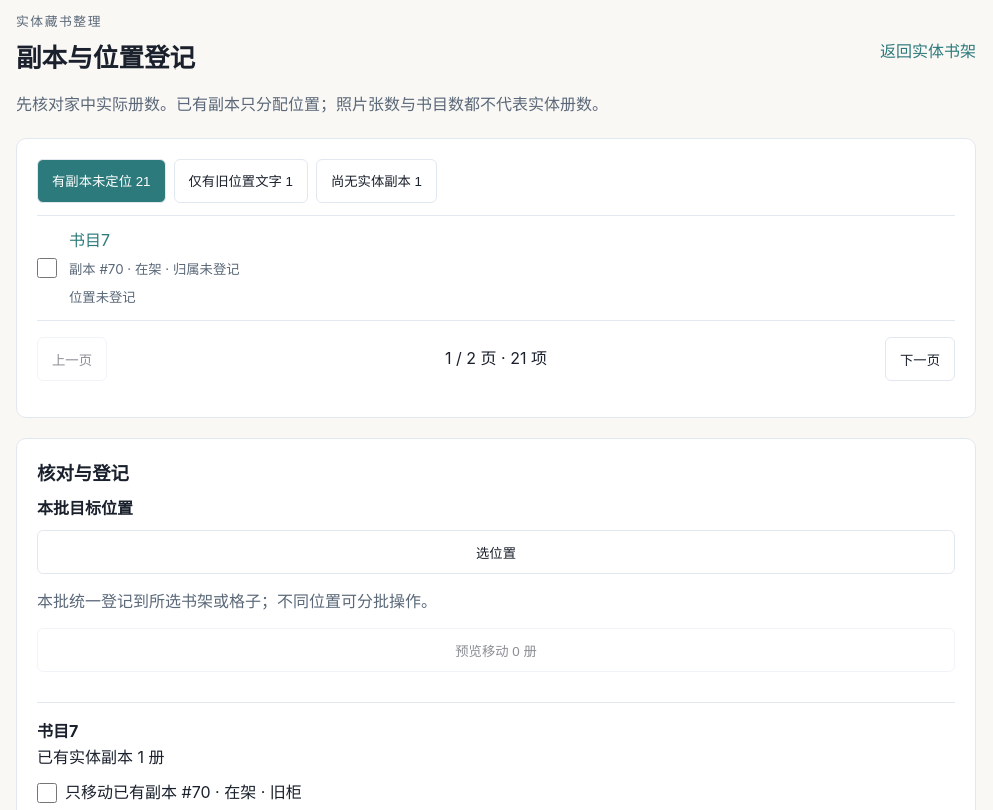
Test: 副本与位置批量登记 › 多书补录必须显式数量和归属，预览后才提交
Click the button "选位置" at (496, 552), box [37,530,955,574]
(page scrolled)
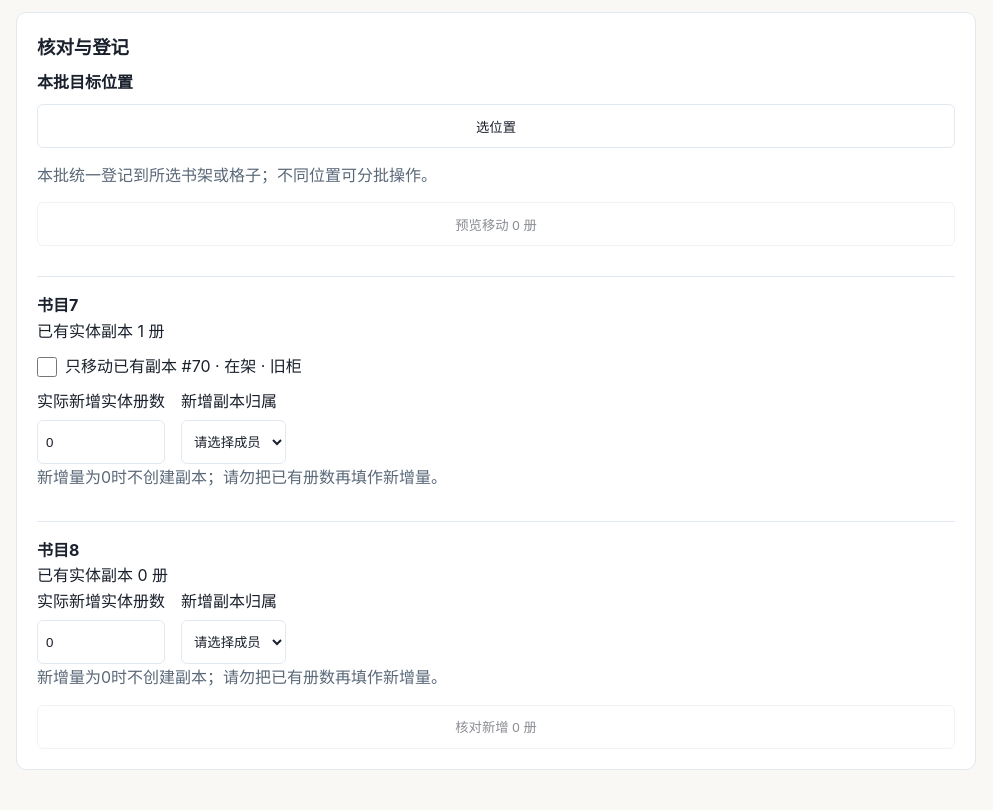
Check: the button "核对新增 0 册" is disabled, box [37,705,955,749]
Replace the text in the number field labelled "实际新增实体册数" below "已有实体副本 0 册" with "2" at (101, 642), box [37,620,165,664]
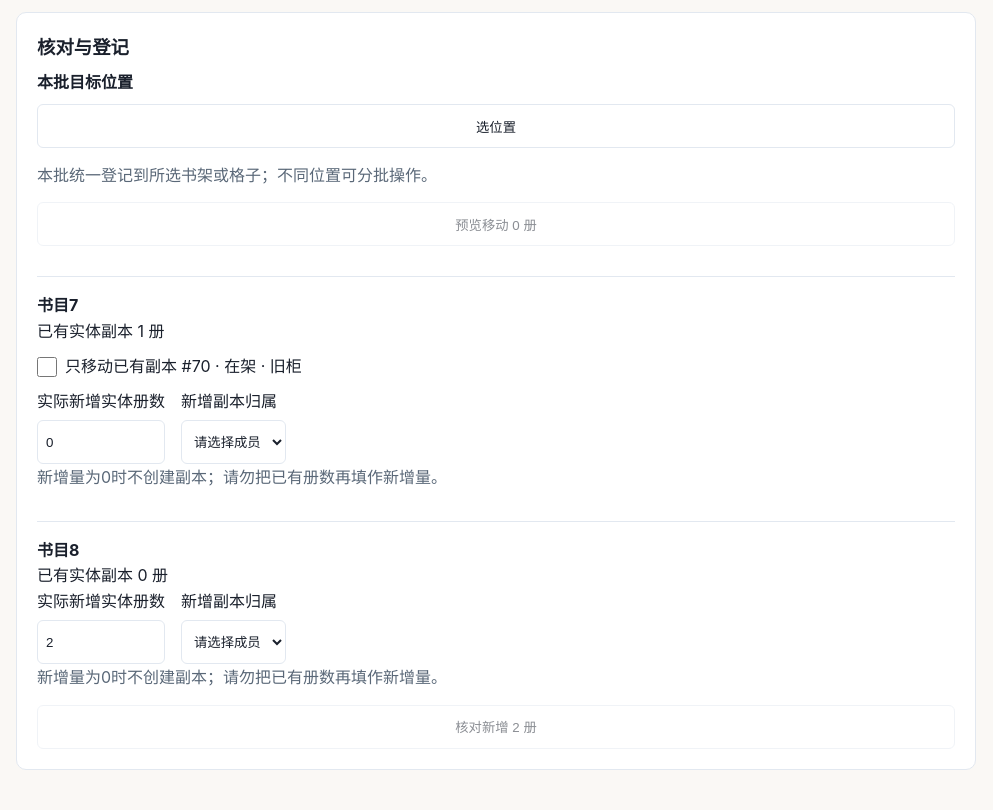
Select "家人" in the dropdown labelled "新增副本归属" below "已有实体副本 0 册" at (234, 642), box [181,620,286,664]
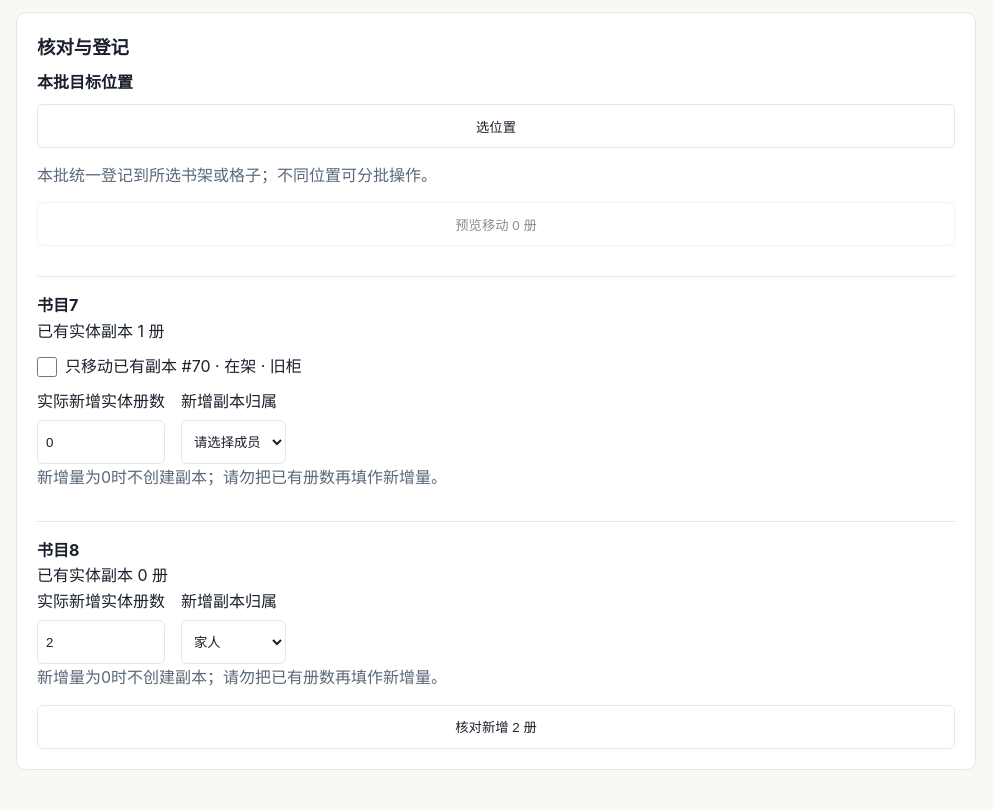
Click the button "核对新增 2 册" at (496, 727), box [37,705,955,749]
(page scrolled)
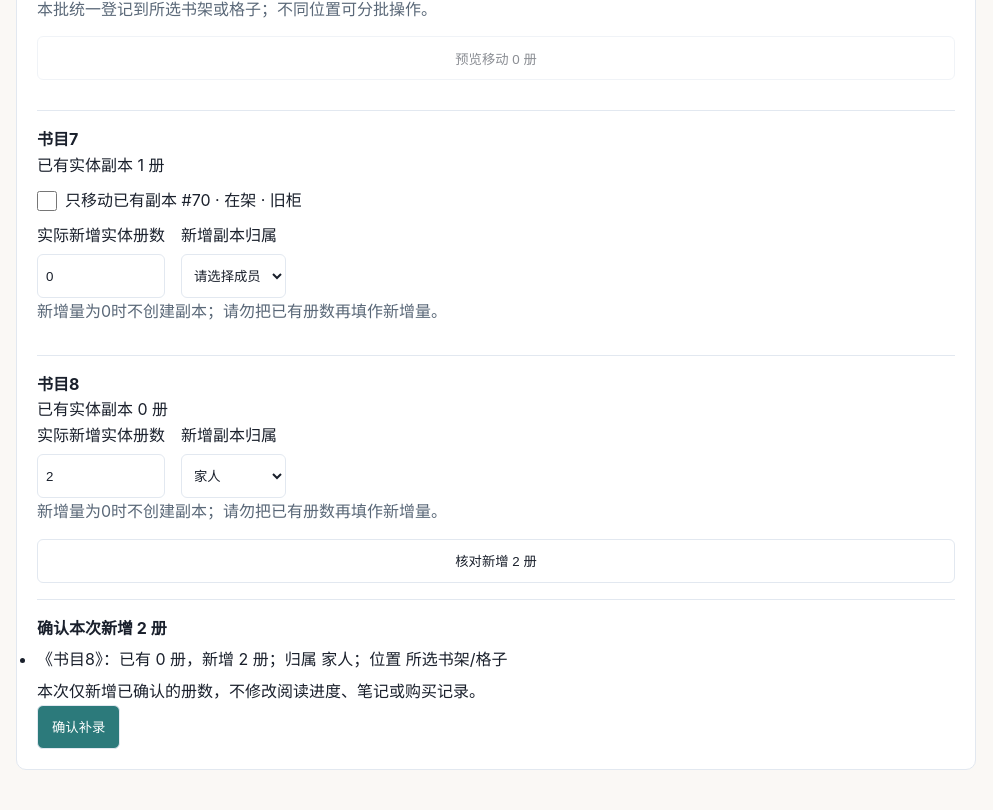
Click the button "确认补录" at (79, 727), box [37,705,120,749]
(page scrolled)
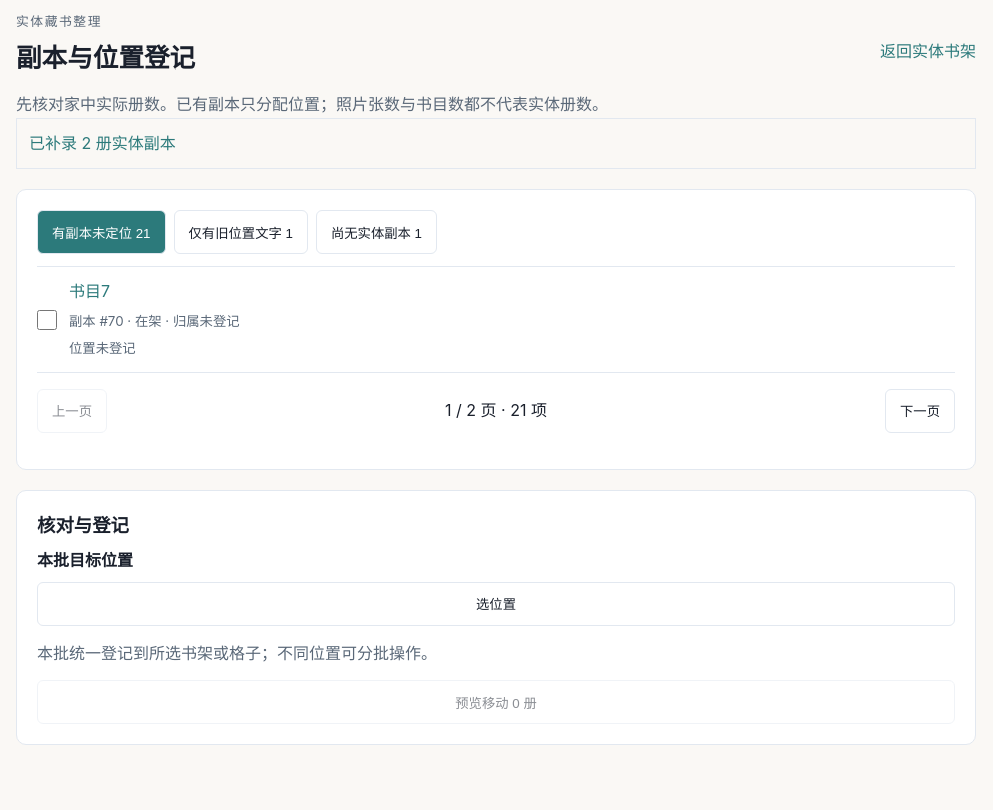
Check: the text "已补录 2 册" is shown, box [29,133,176,153]
